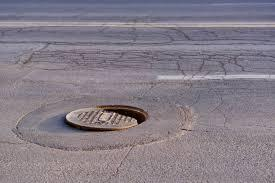open manhole-not overflowing-: (59, 100, 155, 138)
